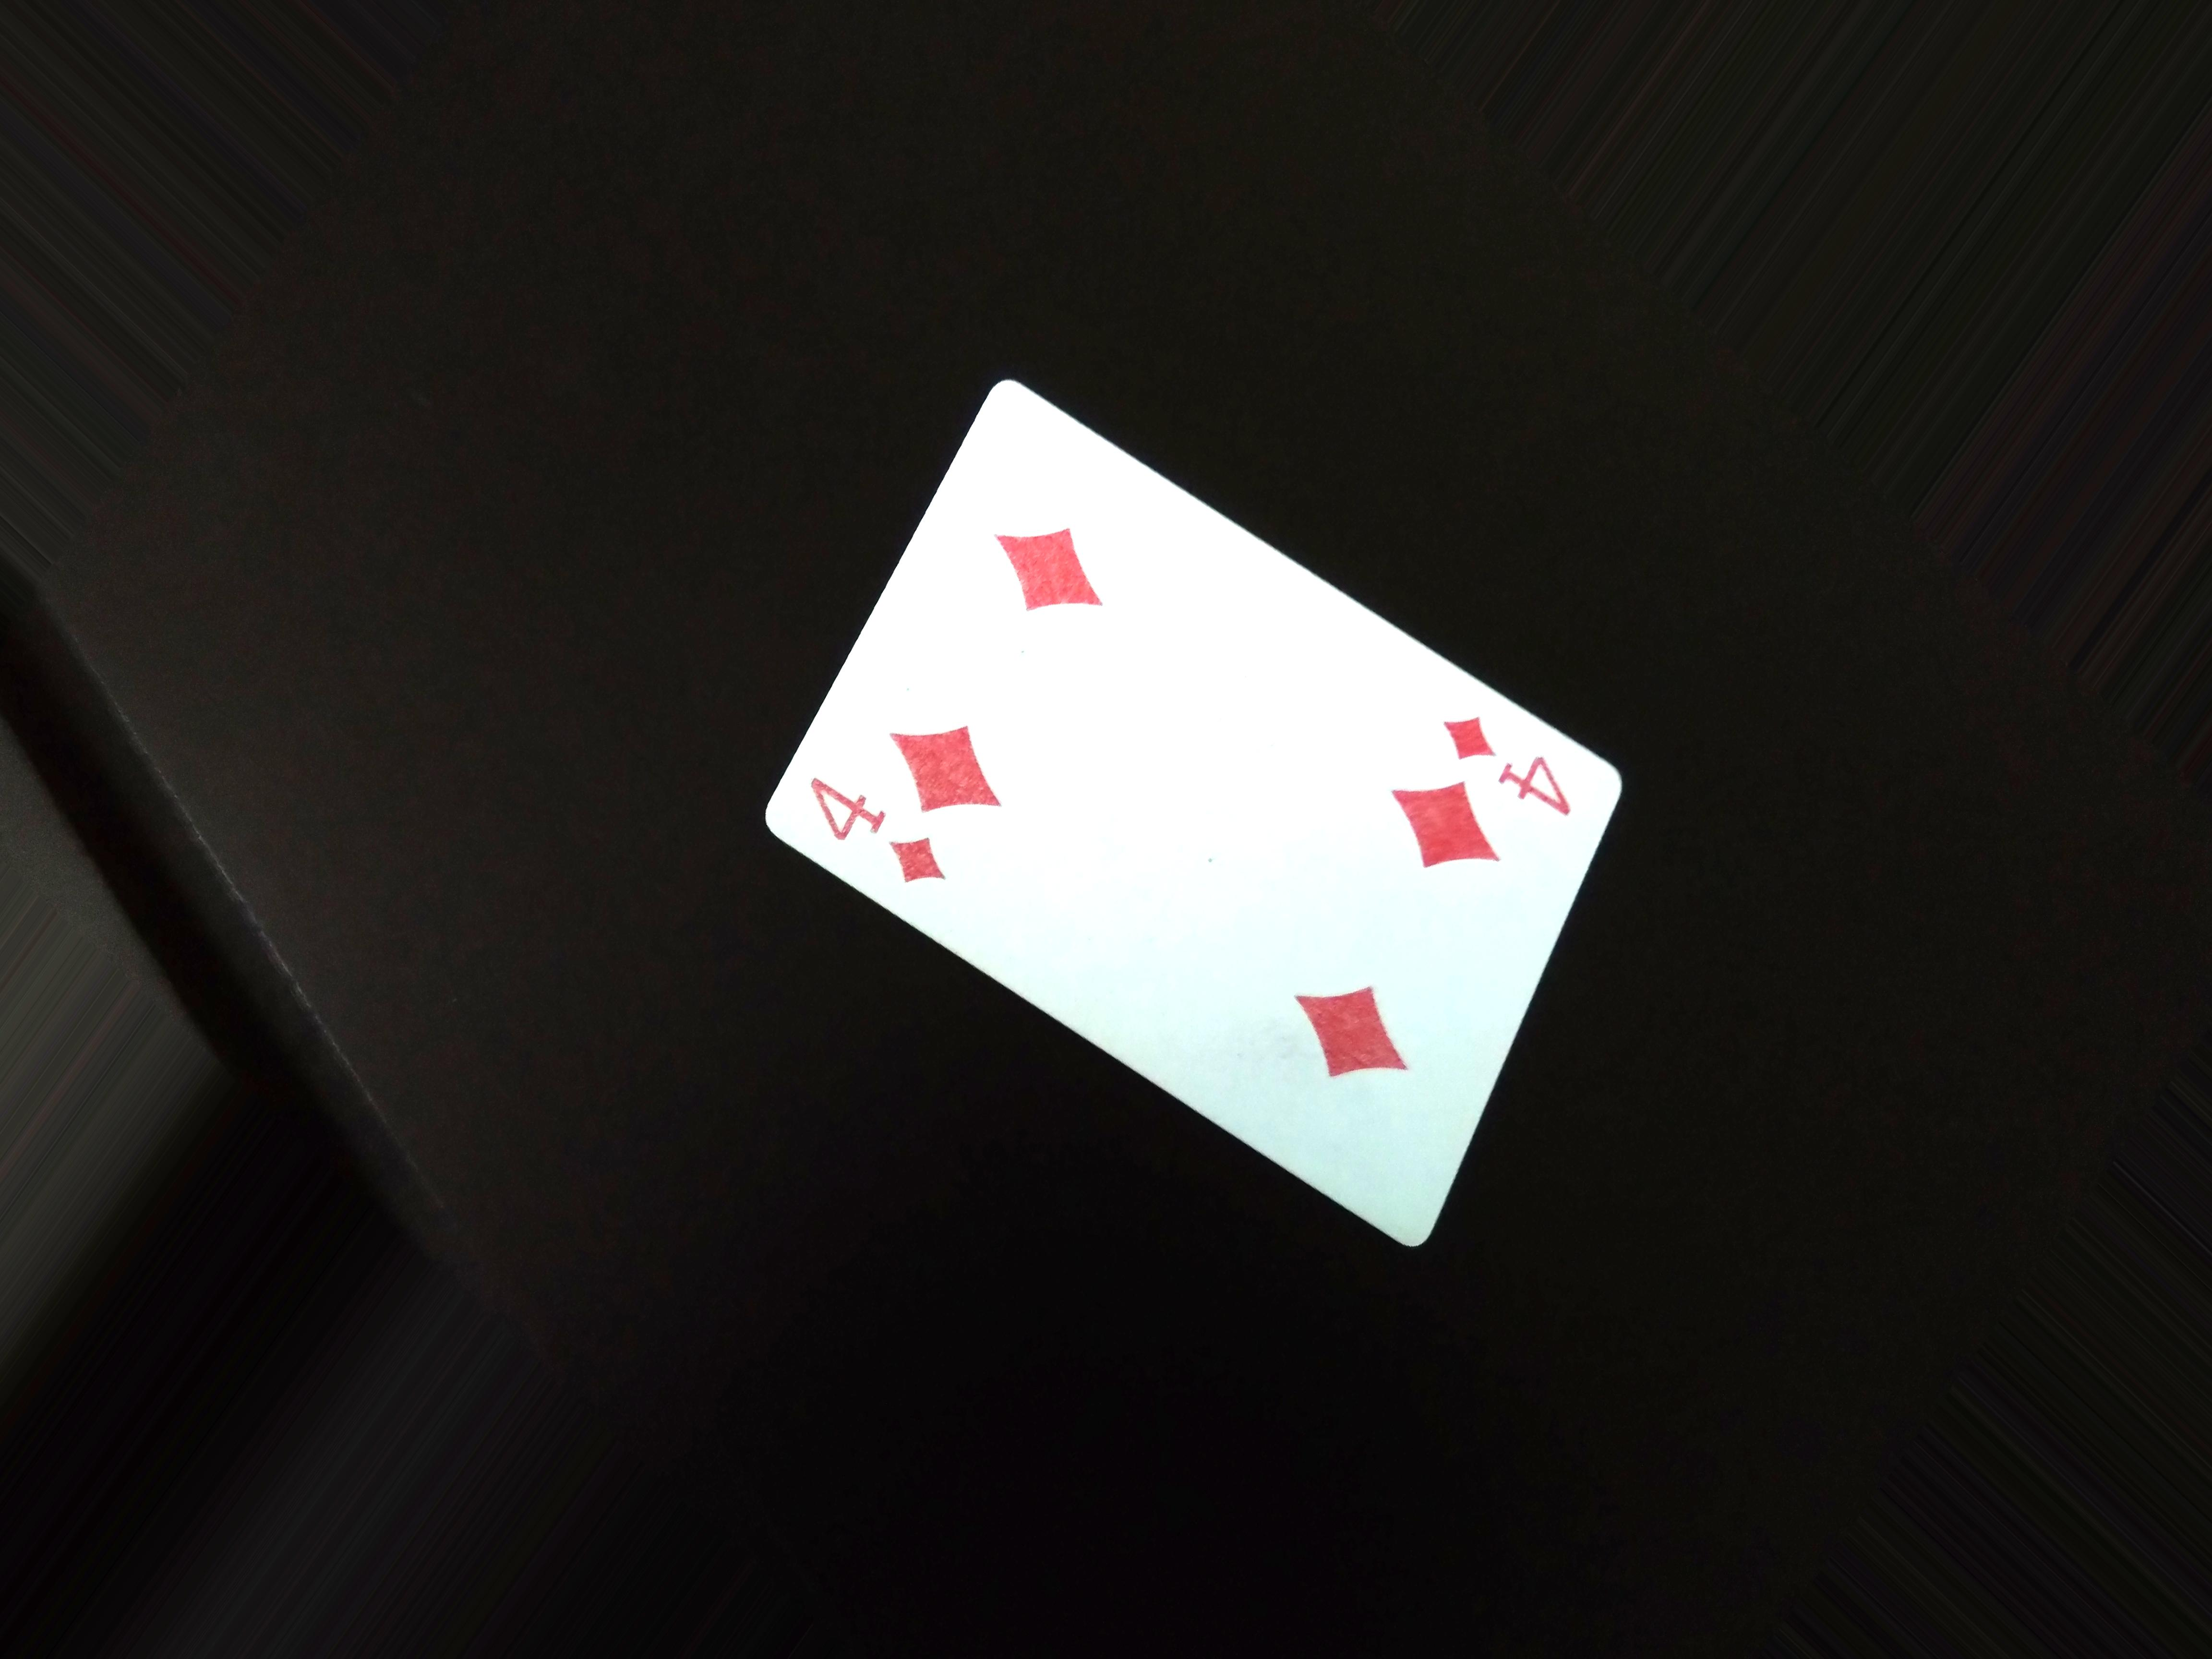4D: (1440, 704, 1588, 828)
